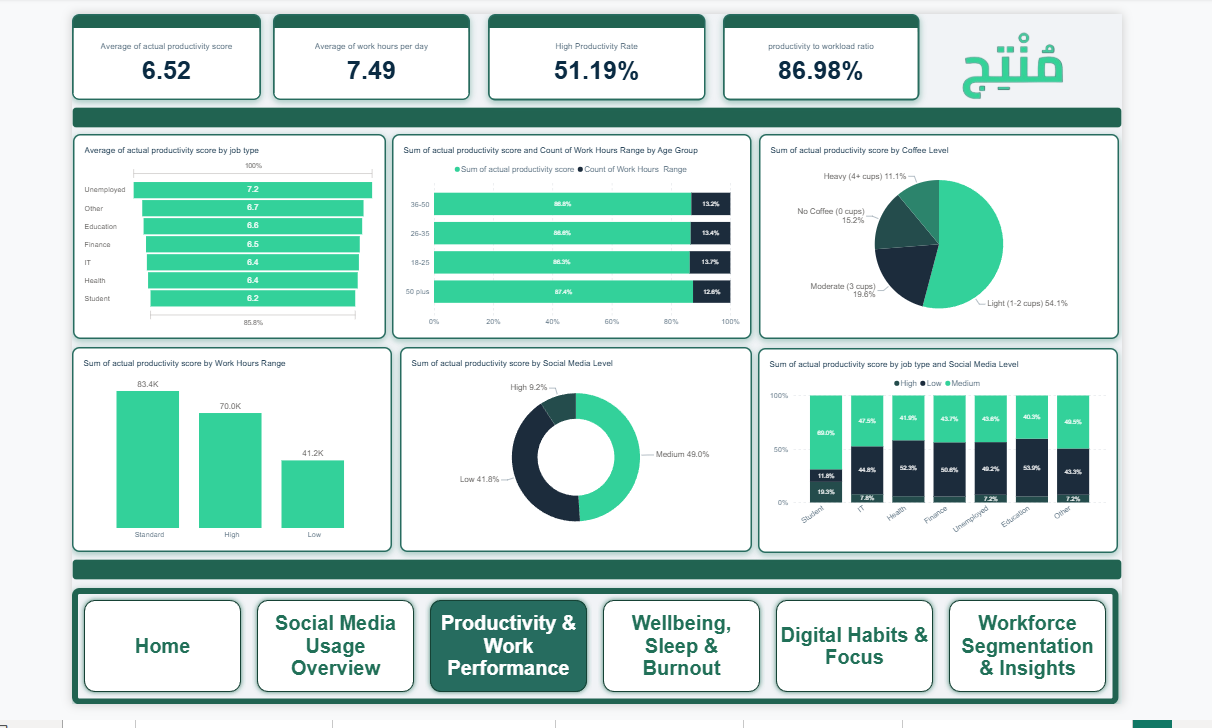

The page's visual inventory and layout, read from the dashboard file:
{"tool":"powerbi","page":{"name":"Productivity & Work Performance","canvas":[2100,1380],"ordinal":2},"visuals":[{"type":"shape","box":[0,186,2100,38],"z":0},{"type":"image","box":[1654,0,446,206],"z":1000},{"type":"shape","box":[0,1090,2100,14],"z":2000},{"type":"columnChart","fields":{"Category":["Productivity.Work Hours  Range"],"Y":["Sum(Productivity.actual productivity score)"]},"box":[0,666.7,640,410],"z":3000},{"type":"pieChart","fields":{"Category":["Productivity.Coffee Level"],"Y":["Sum(Productivity.actual productivity score)"]},"box":[1373.3,240,720,410],"z":4000},{"type":"donutChart","fields":{"Category":["Productivity.Social Media Level"],"Y":["Sum(Productivity.actual_productivity_score)"]},"box":[655,666.2,703.8,410],"z":5000},{"type":"hundredPercentStackedBarChart","fields":{"Category":["Productivity.Age Group"],"Y":["Sum(Productivity.actual productivity score)","CountNonNull(Productivity.Work Hours  Range)"]},"box":[640,240,718.8,410],"z":6000},{"type":"hundredPercentStackedColumnChart","fields":{"Category":["Productivity.job_type"],"Series":["Productivity.Social Media Level"],"Y":["Sum(Productivity.actual productivity score)"]},"box":[1372.5,667.5,720,410],"z":7000},{"type":"cardVisual","fields":{"Data":["Avg(Productivity.actual productivity score)"]},"box":[0,0,378,172],"z":8000},{"type":"cardVisual","fields":{"Data":["Avg(Productivity.work hours per day)"]},"box":[402,0,394,172],"z":9000},{"type":"cardVisual","fields":{"Data":["Measures (2).high productivity rate"]},"box":[832.5,0,435,172.5],"z":10000},{"type":"cardVisual","fields":{"Data":["Measures (2).productivity to workload ratio"]},"box":[1302.5,0,392.5,172.5],"z":11000},{"type":"funnel","fields":{"Category":["Productivity.job_type"],"Y":["Avg(Productivity.actual productivity score)"]},"box":[2.5,240,626.2,410],"z":12000},{"type":"pageNavigator","box":[0,1147.5,2092.5,232.5],"z":13000}]}

Visuals, with their boxes in screenshot pixels (x1, y1, x2, y2):
shape: bbox(66, 103, 1122, 122)
image: bbox(897, 9, 1122, 113)
shape: bbox(66, 557, 1122, 564)
columnChart - Productivity.Work Hours  Range x Sum(Productivity.actual productivity score): bbox(66, 345, 388, 551)
pieChart - Productivity.Coffee Level x Sum(Productivity.actual productivity score): bbox(756, 130, 1118, 336)
donutChart - Productivity.Social Media Level x Sum(Productivity.actual_productivity_score): bbox(395, 344, 749, 550)
hundredPercentStackedBarChart - Productivity.Age Group x Sum(Productivity.actual productivity score): bbox(388, 130, 749, 336)
hundredPercentStackedColumnChart - Productivity.job_type x Productivity.Social Media Level: bbox(756, 345, 1118, 551)
cardVisual - Avg(Productivity.actual productivity score): bbox(66, 9, 256, 96)
cardVisual - Avg(Productivity.work hours per day): bbox(268, 9, 466, 96)
cardVisual - Measures (2).high productivity rate: bbox(485, 9, 703, 96)
cardVisual - Measures (2).productivity to workload ratio: bbox(721, 9, 918, 96)
funnel - Productivity.job_type x Avg(Productivity.actual productivity score): bbox(68, 130, 382, 336)
pageNavigator: bbox(66, 586, 1118, 703)
